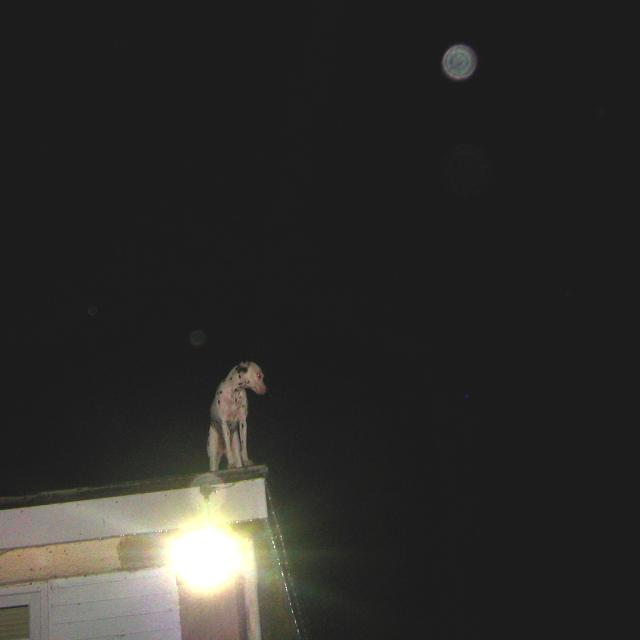Dog: (178, 351, 312, 487)
